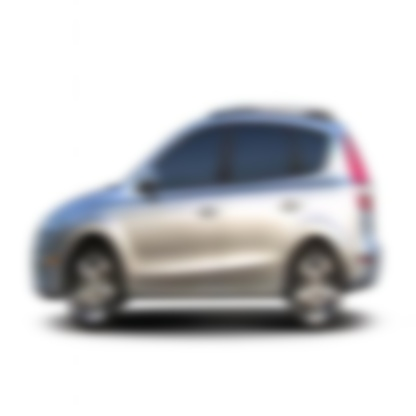Vehicle: (32, 103, 380, 335)
